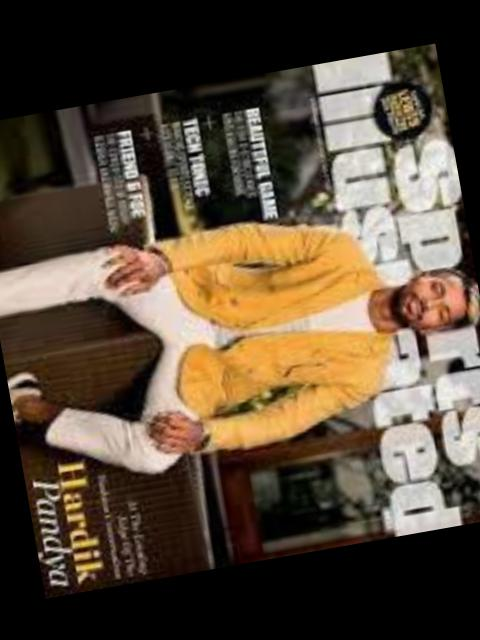cardboard paper: (0, 42, 480, 598)
